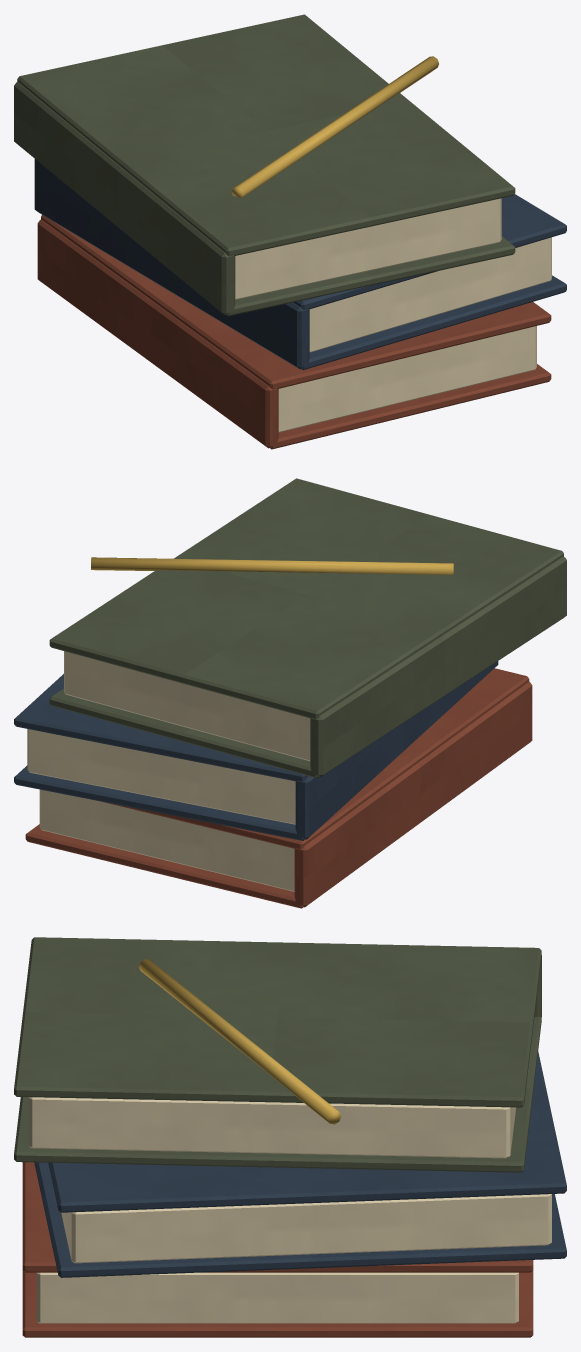
Rendered from books_notebook.glb.
The picture shows the model from 3 angles, top to bottom: view 1: azimuth 30°, elevation 25°; view 2: azimuth 150°, elevation 25°; view 3: azimuth 270°, elevation 25°; orthographic projection. The views are drawn at different scales.
Parts seen in each view (by area): view 1: Cover.005, Spine, Spine.002, Pages.002, Pages, Pages.001, Cover.001, Spine.001, Cover.004, Cover, Cover.002, books_notebook_Mesh (+1 smaller); view 2: Cover.005, Spine.002, Spine, Pages.001, Pages, Pages.002, Spine.001, Cover.001, Cover.003, books_notebook_Mesh, Cover.002, Cover (+1 smaller); view 3: Cover.005, Pages.001, Pages.002, Pages, Cover.003, Cover.004, Cover.002, Cover, Cover.001, books_notebook_Mesh.
Boxes of the visible parts, x1,y1,x2,y2 form: Cover.005: [17, 14, 515, 256]; Spine: [37, 219, 278, 448]; Spine.002: [14, 81, 235, 314]; Pages.002: [235, 198, 501, 299]; Pages: [278, 326, 536, 432]; Pages.001: [309, 237, 551, 352]; Cover.001: [41, 215, 551, 389]; Spine.001: [34, 159, 309, 368]; Cover.004: [226, 236, 515, 316]; Cover: [270, 364, 551, 449]; Cover.002: [301, 275, 566, 369]; books_notebook_Mesh: [231, 56, 438, 197]; Cover.005: [49, 478, 563, 718]; Spine.002: [310, 556, 566, 776]; Spine: [294, 681, 532, 907]; Pages.001: [27, 729, 295, 824]; Pages: [39, 789, 294, 891]; Pages.002: [64, 651, 310, 760]; Spine.001: [295, 661, 498, 839]; Cover.001: [102, 668, 529, 849]; Cover.003: [14, 674, 307, 781]; books_notebook_Mesh: [91, 557, 453, 574]; Cover.002: [14, 765, 304, 840]; Cover: [25, 824, 303, 908]; Cover.005: [14, 937, 541, 1107]; Pages.001: [61, 1194, 551, 1263]; Pages.002: [28, 1097, 515, 1158]; Pages: [36, 1272, 518, 1323]; Cover.003: [48, 1051, 566, 1212]; Cover.004: [14, 1016, 541, 1172]; Cover.002: [34, 1162, 566, 1277]; Cover: [22, 1270, 533, 1337]; Cover.001: [22, 1162, 533, 1272]; books_notebook_Mesh: [139, 959, 341, 1124].
Size of the model in its own units: 0.2406 by 0.14 by 0.2924.
5 materials, 5 textured.
